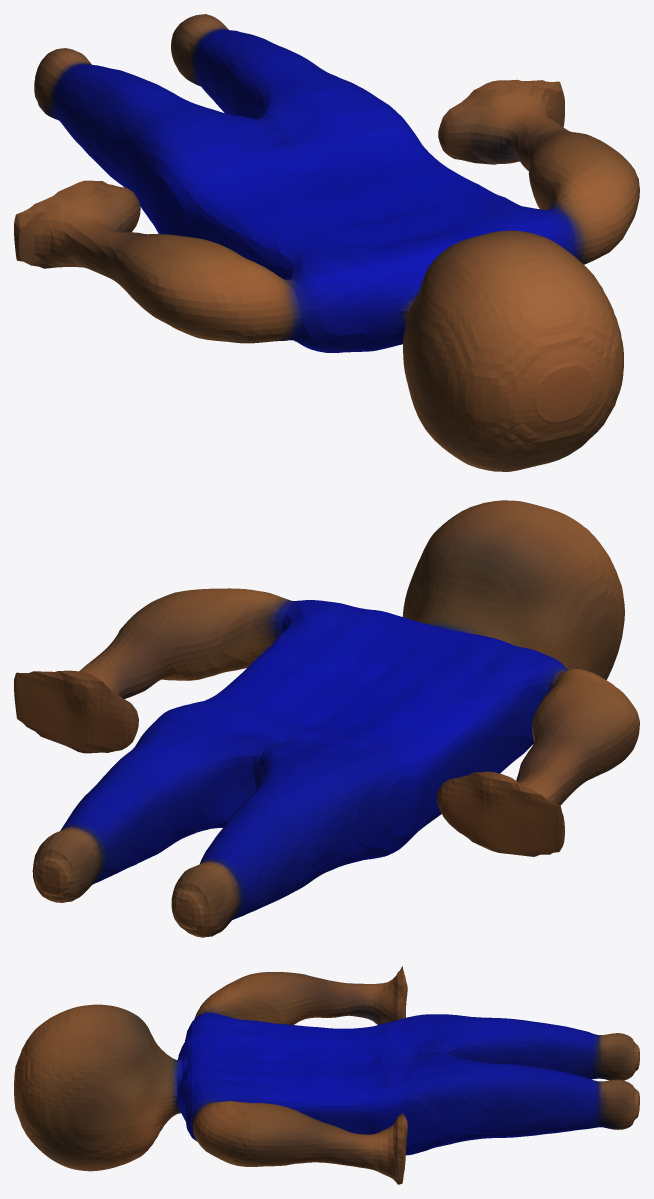
The model's file is small person_3ca0a387.obj.
3 views of the same model, one above another, from view 1: azimuth 30°, elevation 25°; view 2: azimuth 150°, elevation 25°; view 3: azimuth 270°, elevation 25° (orthographic). The views are drawn at different scales.
Bounding box in the file's own units: 1.4 × 0.5219 × 1.98.
